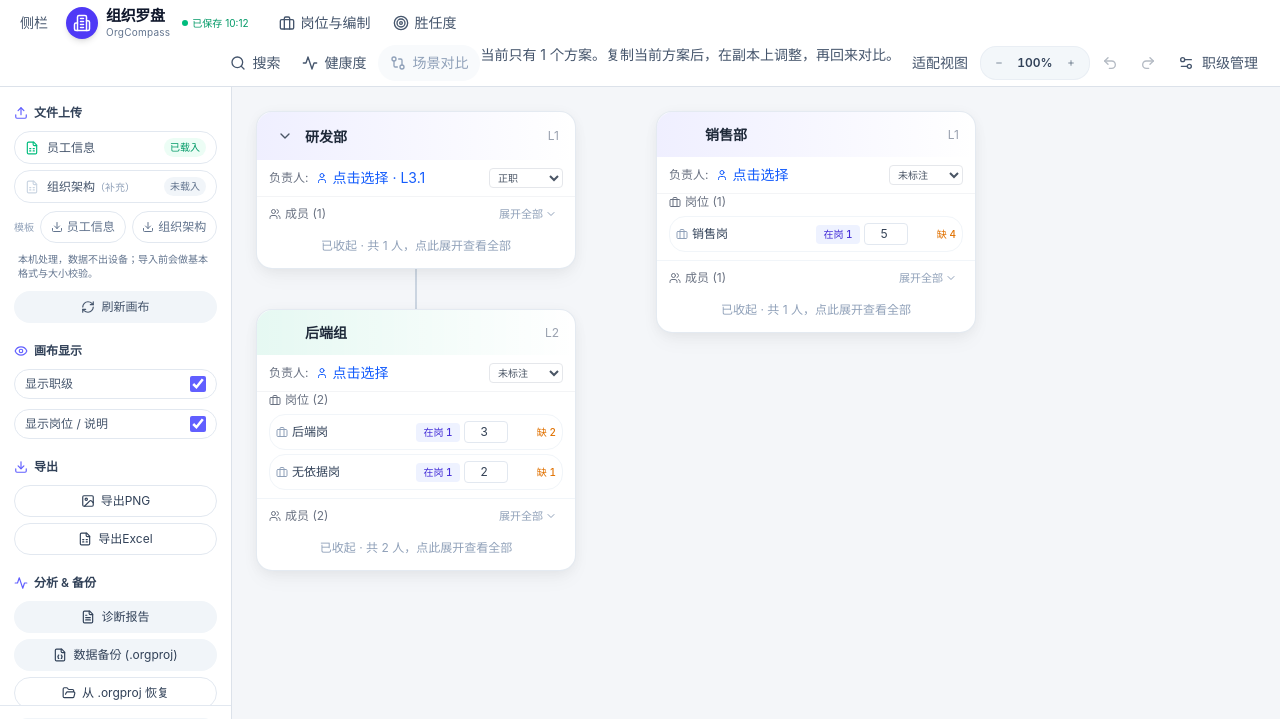
Test case: M3 看板：统一范围、筛选与下钻 › 未入架构人员独立提示，不混入部门分母
Click the button "胜任度": (425, 23) [383,5,467,41]
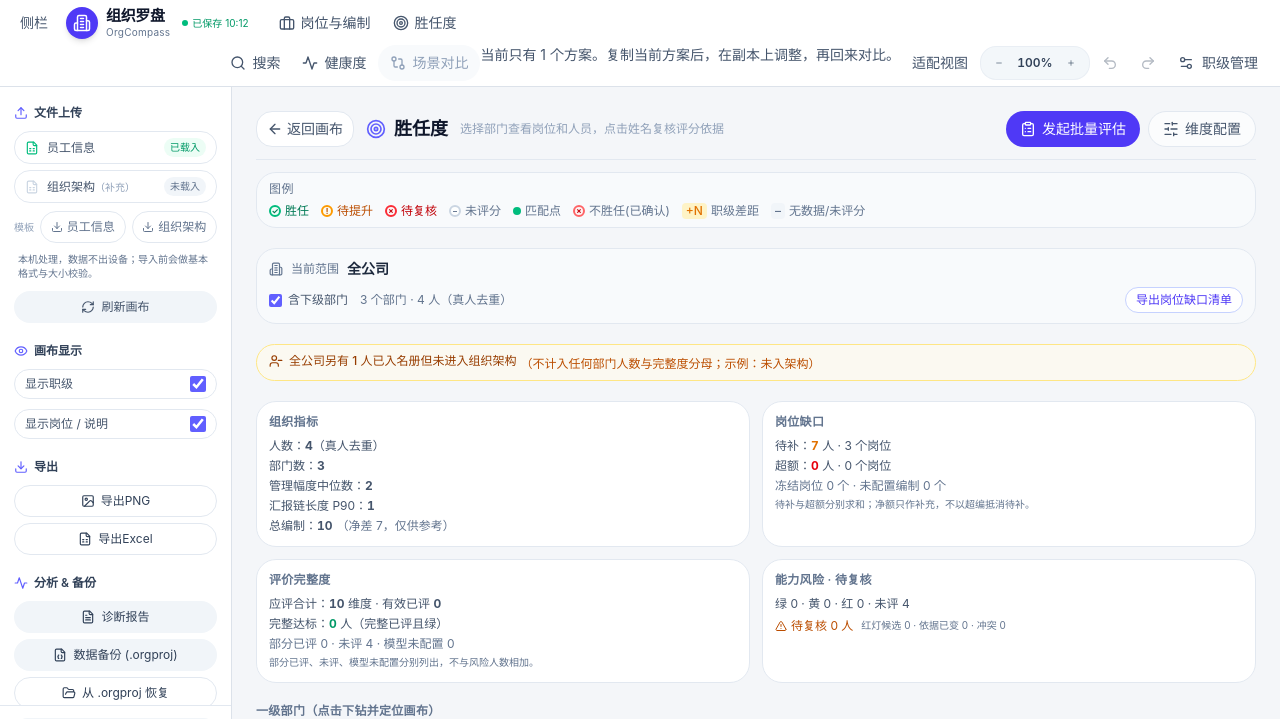
Check: the text "全公司另有 1 人已入名册但未进入组织架构" is shown, box [269,353,516,369]
